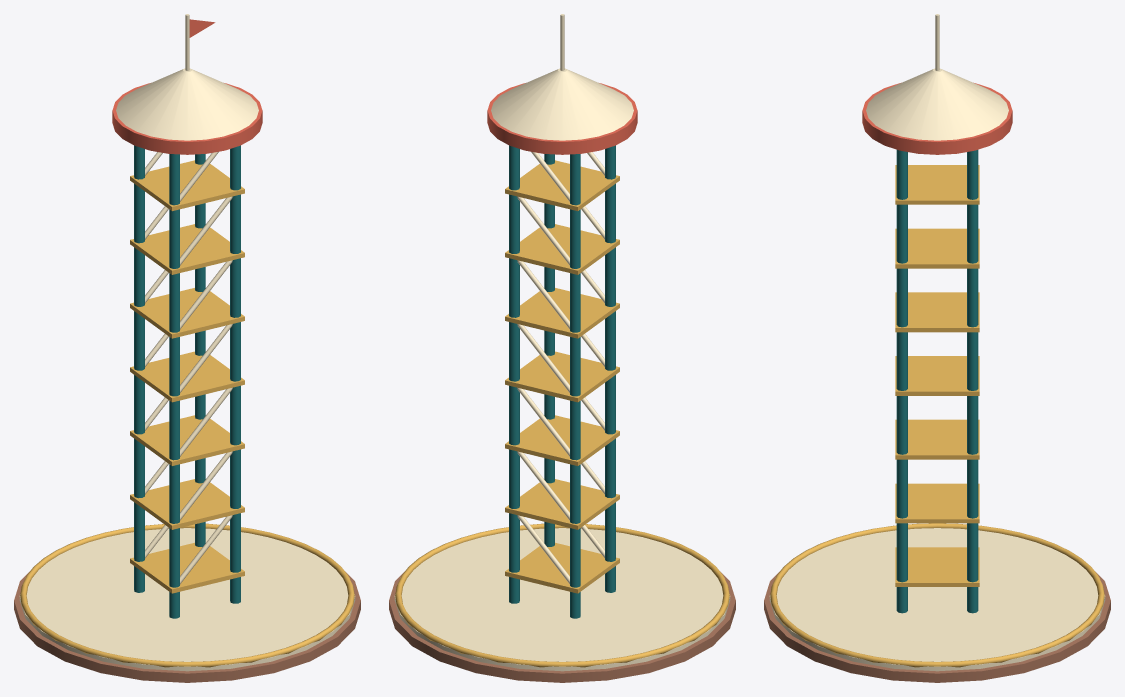
The model's file is ride_dropzone.glb.
3 renders of one model, left to right at view 1: azimuth 30°, elevation 25°; view 2: azimuth 150°, elevation 25°; view 3: azimuth 270°, elevation 25°, orthographic.
Visible parts, largest first — view 1: ride_dropzone; view 2: ride_dropzone; view 3: ride_dropzone.
Boxes of the visible parts, x1,y1,x2,y2 form: ride_dropzone: (14,14,360,682); ride_dropzone: (389,14,735,682); ride_dropzone: (764,14,1110,682).
Bounding box in the file's own units: 7.4 × 14 × 7.4.
